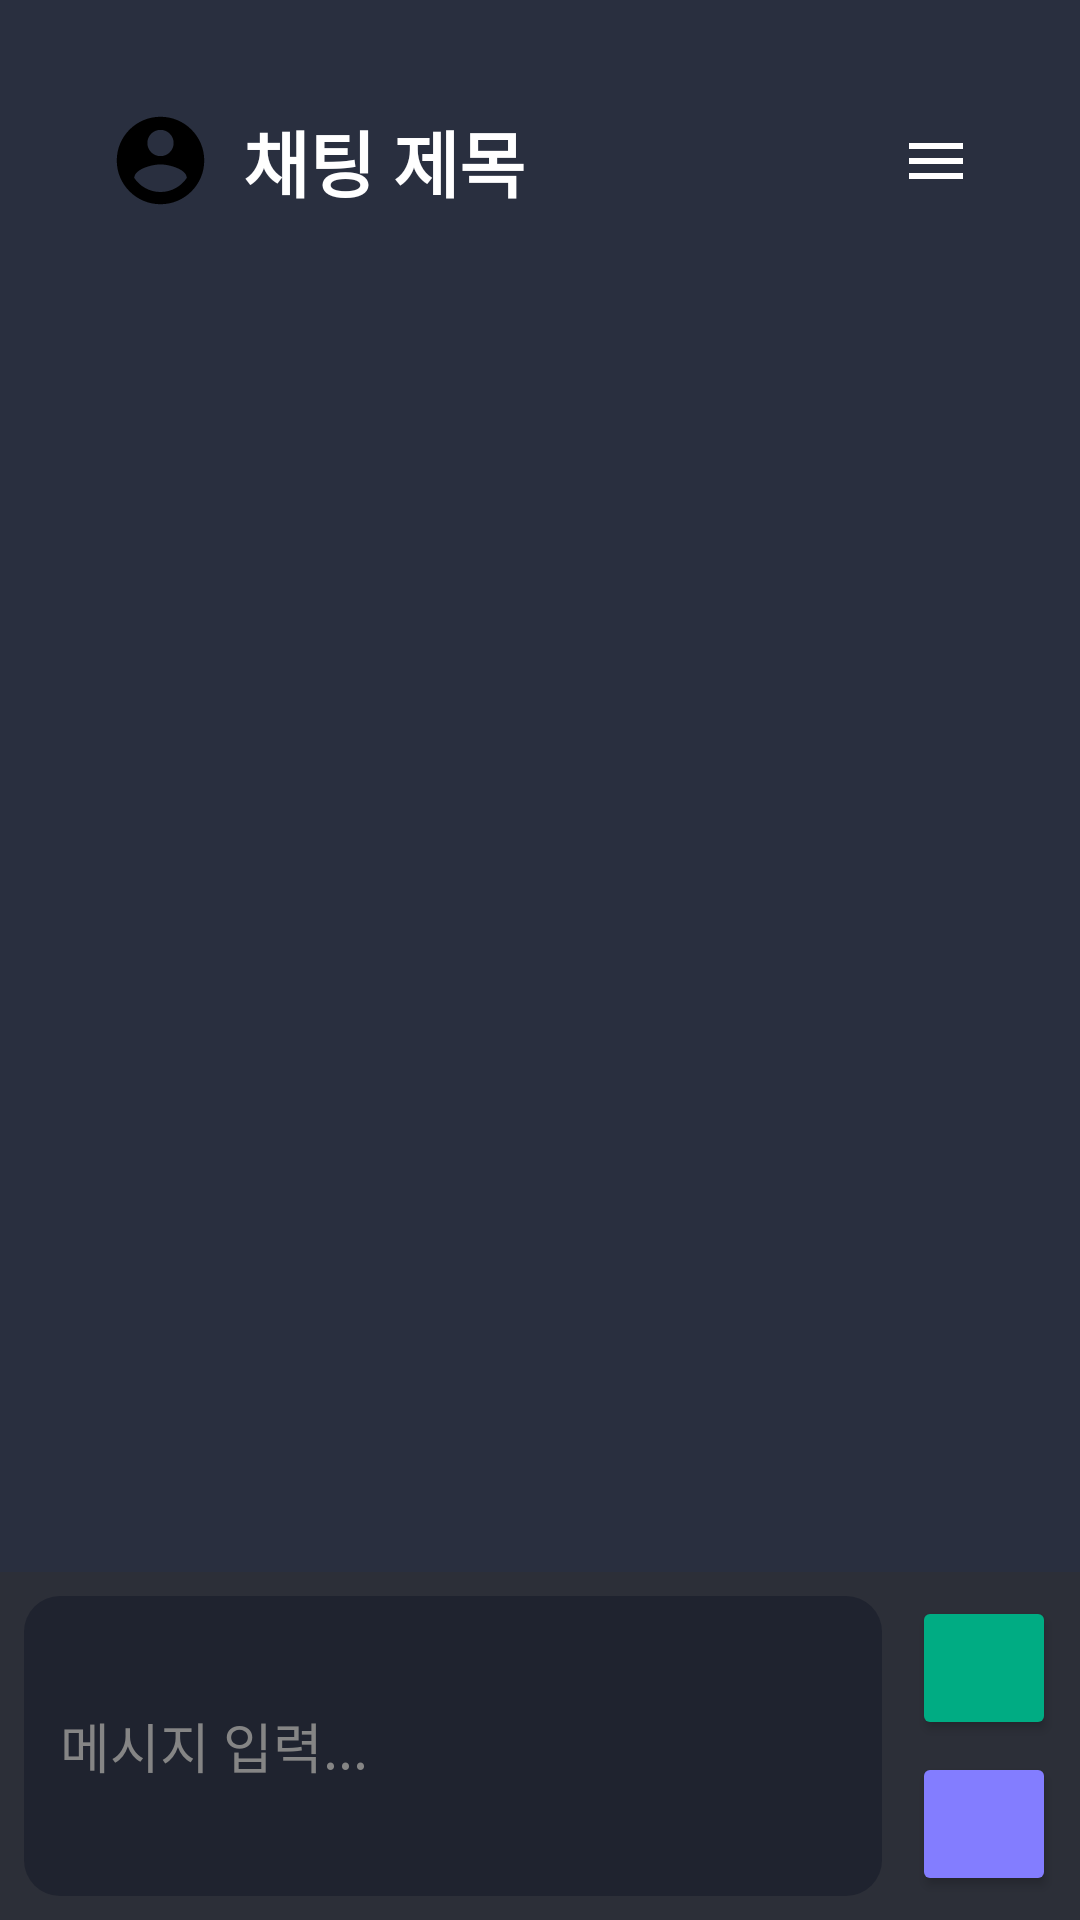

Screen size 1080 × 1920. Icon name, then its center in pixels as [x,y]:
account circle: [160,160]
목록 버튼: [936,161]
